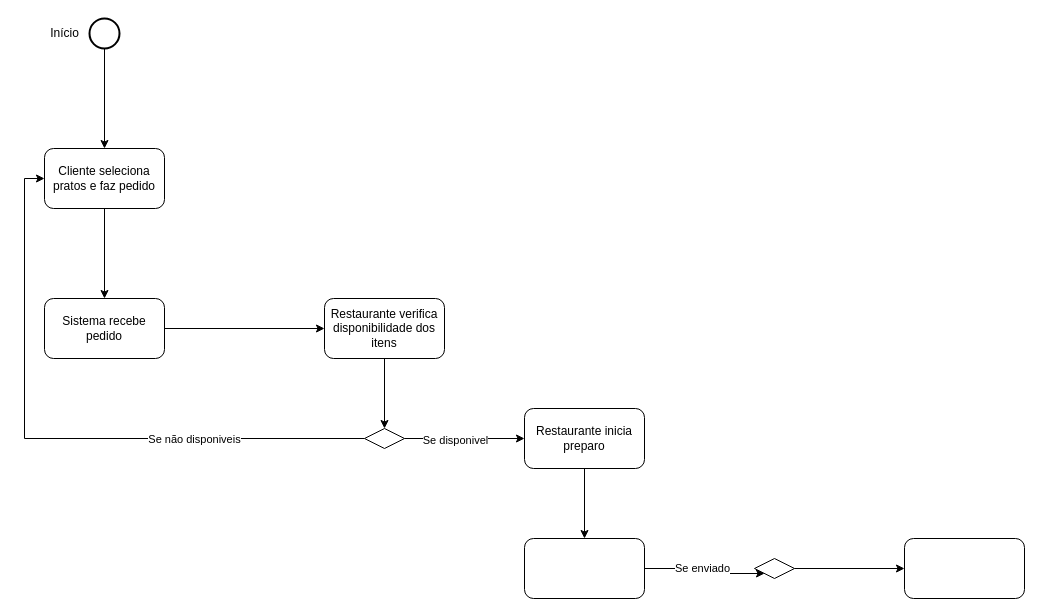
The diagram is 1042 pixels wide and 616 high, and some of its shapes have lost their labels. Here are the shapes that lost their labels. From the top down, the centre of each, then its label:
[584,568]: Sistema envia notificação ao entregador
[964,568]: Restaurante envia notificação a plataforma de pagamento
